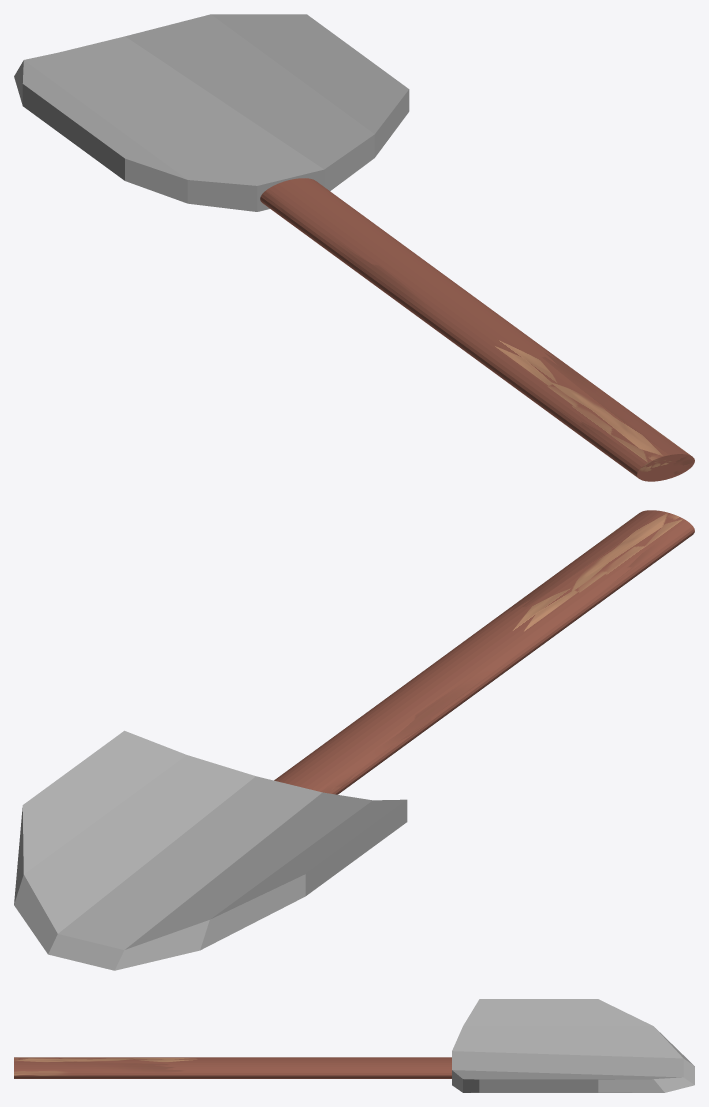
The model's file is Shovel_Simple.glb.
The picture shows the model from 3 angles, top to bottom: view 1: azimuth 30°, elevation 25°; view 2: azimuth 150°, elevation 25°; view 3: azimuth 270°, elevation 25°; orthographic projection. The views are drawn at different scales.
Parts seen in each view (by area): view 1: shovel_main.001, shovel_handle.001; view 2: shovel_main.001, shovel_handle.001; view 3: shovel_main.001, shovel_handle.001.
Boxes of the visible parts, x1=… form: shovel_main.001: x1=14, y1=14, x2=409, y2=211; shovel_handle.001: x1=260, y1=178, x2=694, y2=481; shovel_main.001: x1=14, y1=730, x2=407, y2=970; shovel_handle.001: x1=274, y1=510, x2=694, y2=794; shovel_main.001: x1=452, y1=999, x2=694, y2=1092; shovel_handle.001: x1=14, y1=1057, x2=451, y2=1078.
Size of the model in its own units: 0.4607 by 0.0971 by 1.64.
Materials: 2 (1 with a texture image).
